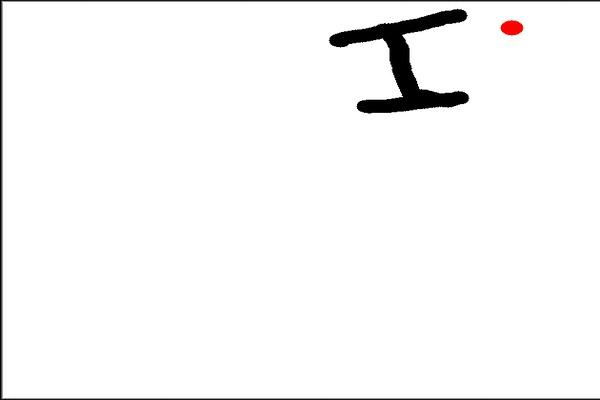i: (330, 3, 474, 118)
